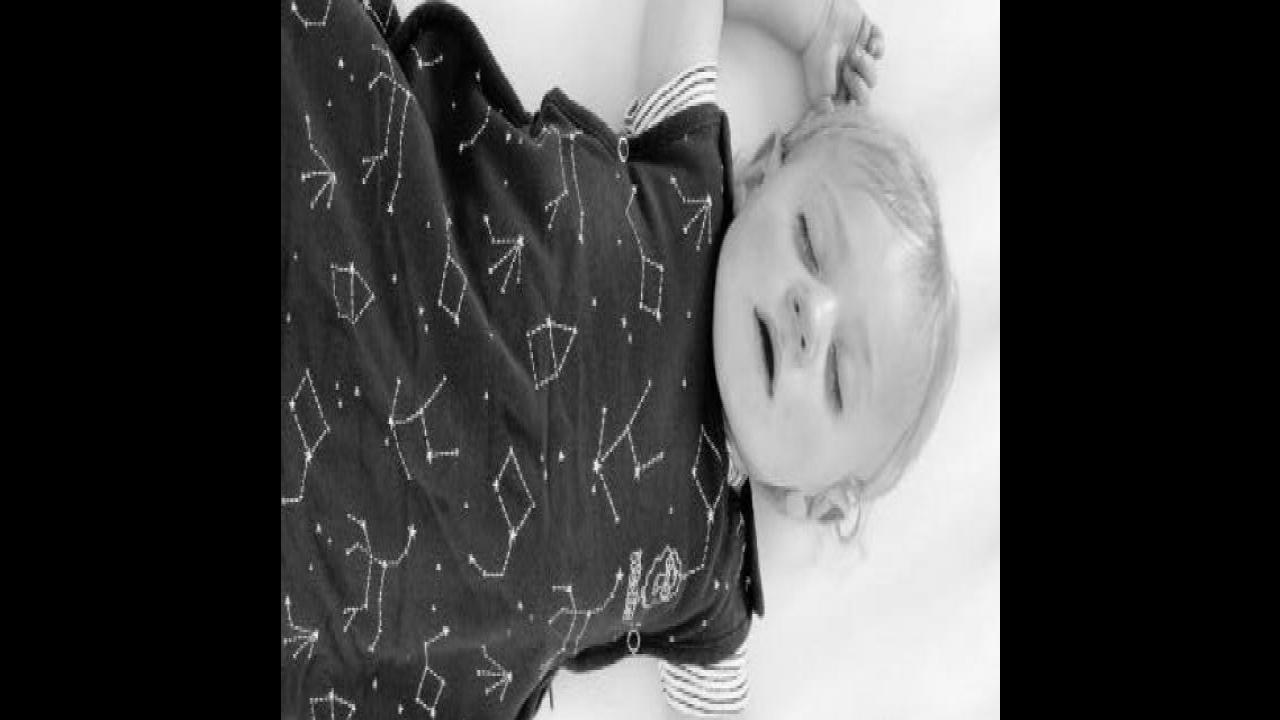hand: (812, 0, 880, 115)
